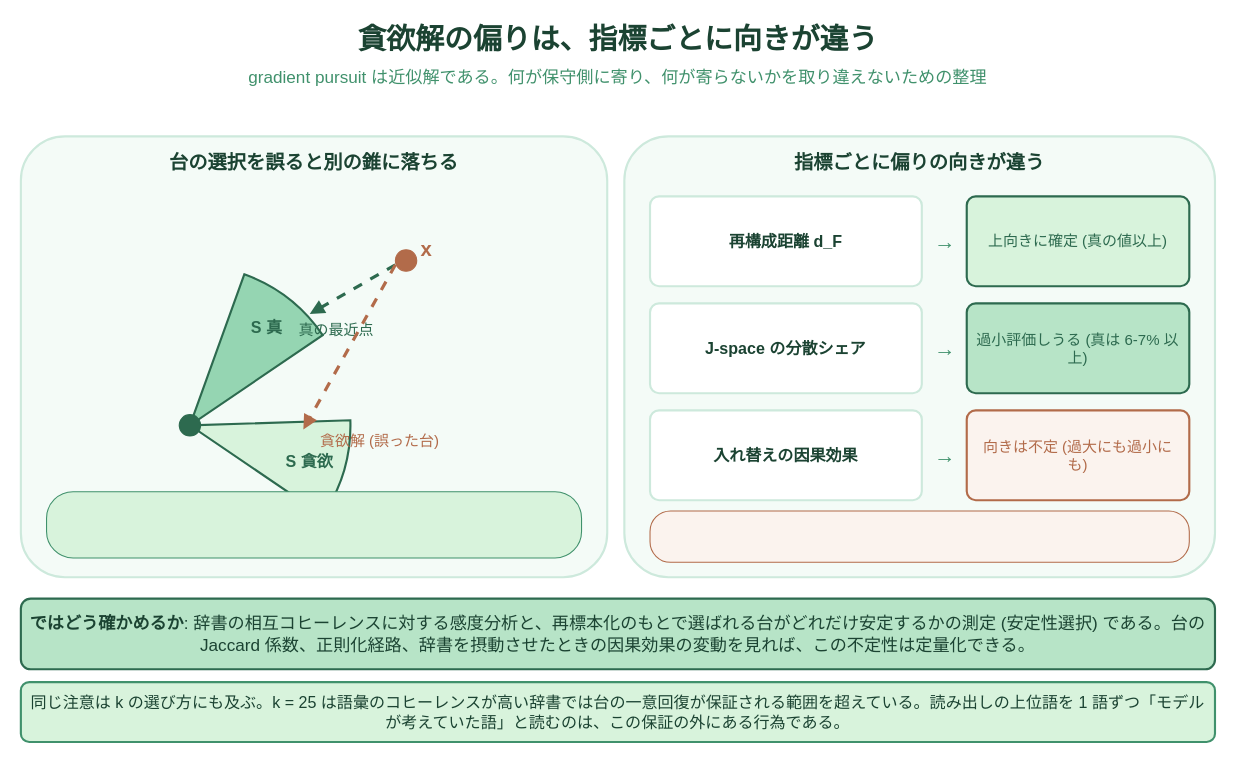
Image size: 1235x761. Some labels were removed from this diagram. The shapes that lost their labels are listed below. From the top down, each one's centre as x and y in pixels, then its label:
At [313,524]: "貪欲解が最適解より近くなることはないので、 報告される d_F は真の値の 上からの評価 になる".
At [919,536]: "まとめて「保守的」とは言えない。 「真の成分ならもっと効くはず」も言えない".
